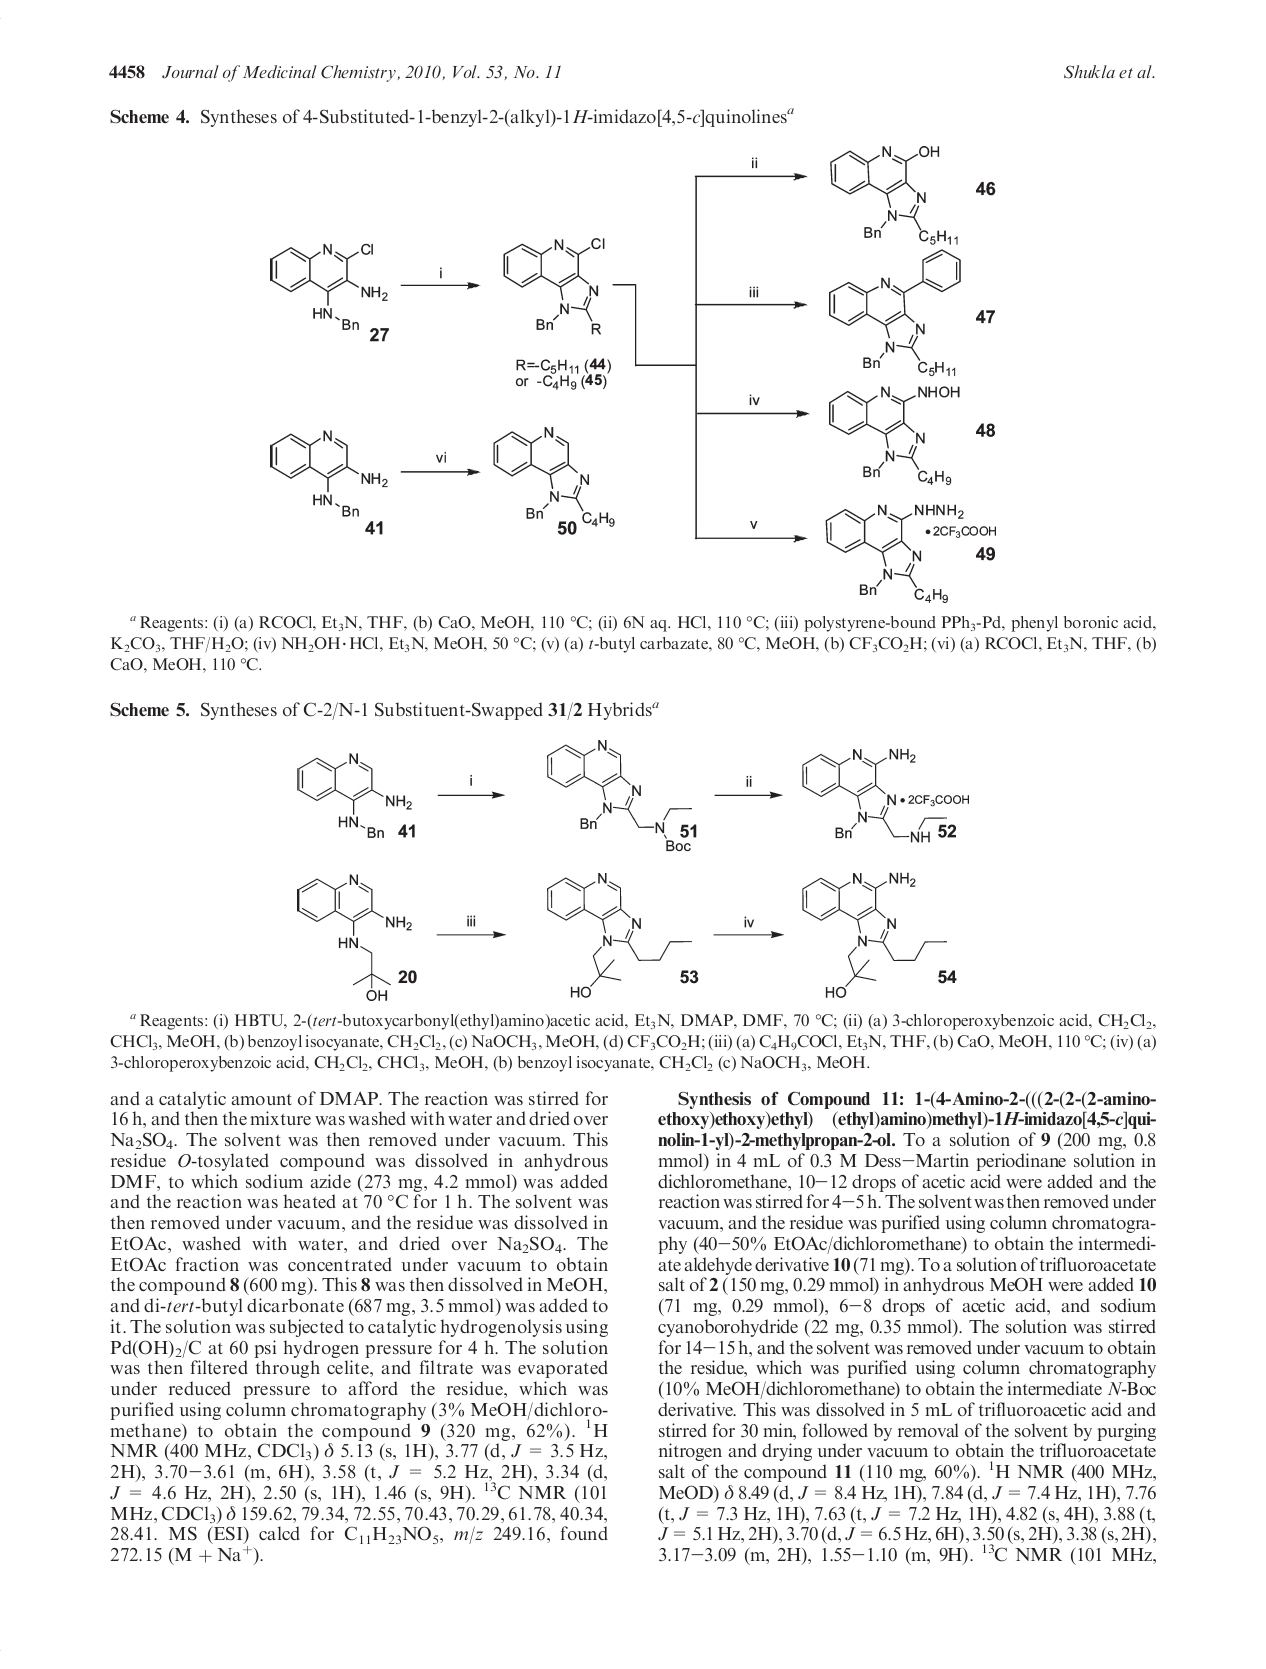exist_molecular: (799, 868, 947, 1000), (544, 872, 694, 1000), (828, 247, 964, 376), (545, 739, 697, 852), (799, 746, 969, 844), (293, 874, 415, 1003), (823, 499, 965, 605), (828, 382, 964, 487), (828, 146, 960, 246), (493, 427, 618, 528), (269, 427, 388, 519), (269, 241, 390, 331), (294, 751, 414, 840), (503, 233, 606, 335)
